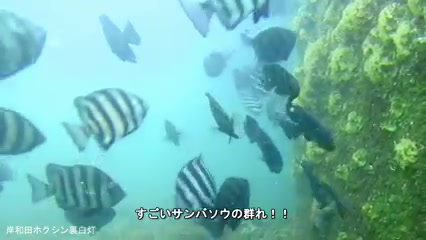ishidai: (27, 157, 126, 210), (74, 87, 149, 139), (184, 159, 218, 205)
